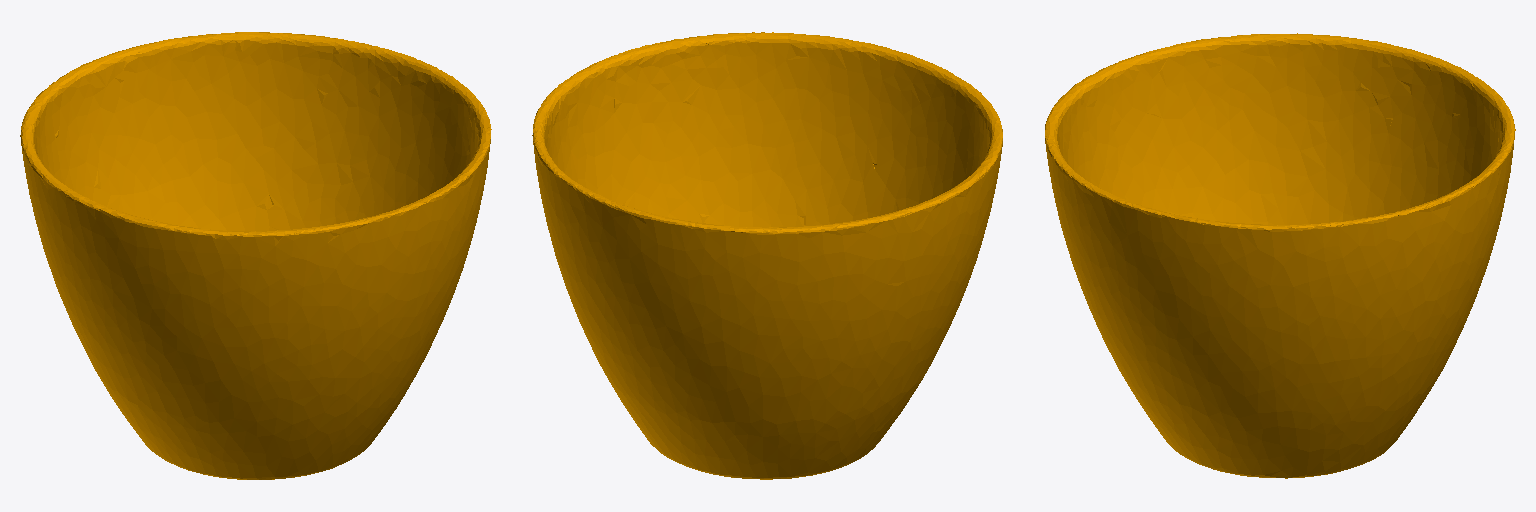
URDF robot description (Ecoforms_Plant_Container_B4_Har):
<?xml version="1.0"?>
<robot name="Ecoforms_Plant_Container_B4_Har">
  <link name="base_link">
    <contact>
      <lateral_friction value="1.0"/>
      <rolling_friction value="0.0"/>
      <contact_cfm value="0.0"/>
      <contact_erp value="1.0"/>
    </contact>
    <inertial>
      <mass value="0.752931167962"/>
      <inertia ixx="1" ixy="0" ixz="0" iyy="1" iyz="0" izz="1"/>
    </inertial>
    <visual>
      <geometry>
        <mesh filename="Ecoforms_Plant_Container_B4_Har_visual.obj"/>
      </geometry>
    </visual>
    <collision>
      <geometry>
        <mesh filename="Ecoforms_Plant_Container_B4_Har_collision.obj"/>
      </geometry>
    </collision>
  </link>
</robot>

--- Facts derived from the render (not from the file) ---
The picture shows the robot from 3 angles, left to right: view 1: azimuth 30°, elevation 25°; view 2: azimuth 150°, elevation 25°; view 3: azimuth 270°, elevation 25°; orthographic projection.
Model Ecoforms_Plant_Container_B4_Har with 1 links and 0 joints (none), rooted at base_link, posed every joint at zero.
Links seen in each view (by area): view 1: base_link; view 2: base_link; view 3: base_link.
Link boxes in pixels (left/top/right/bottom): base_link: left=20, top=32, right=491, bottom=479; base_link: left=532, top=32, right=1002, bottom=479; base_link: left=1045, top=33, right=1515, bottom=478.
Size in the robot's own frame: 0.1008 by 0.1009 by 0.0717 metres.
1 mesh visuals loaded from 1 distinct referenced files (1 OBJ).